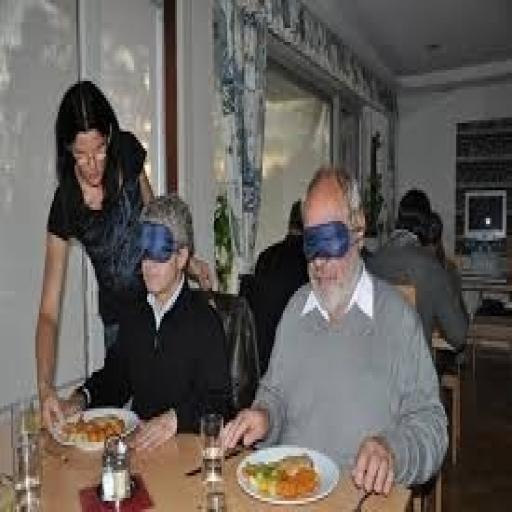eating: (32, 73, 460, 495)
